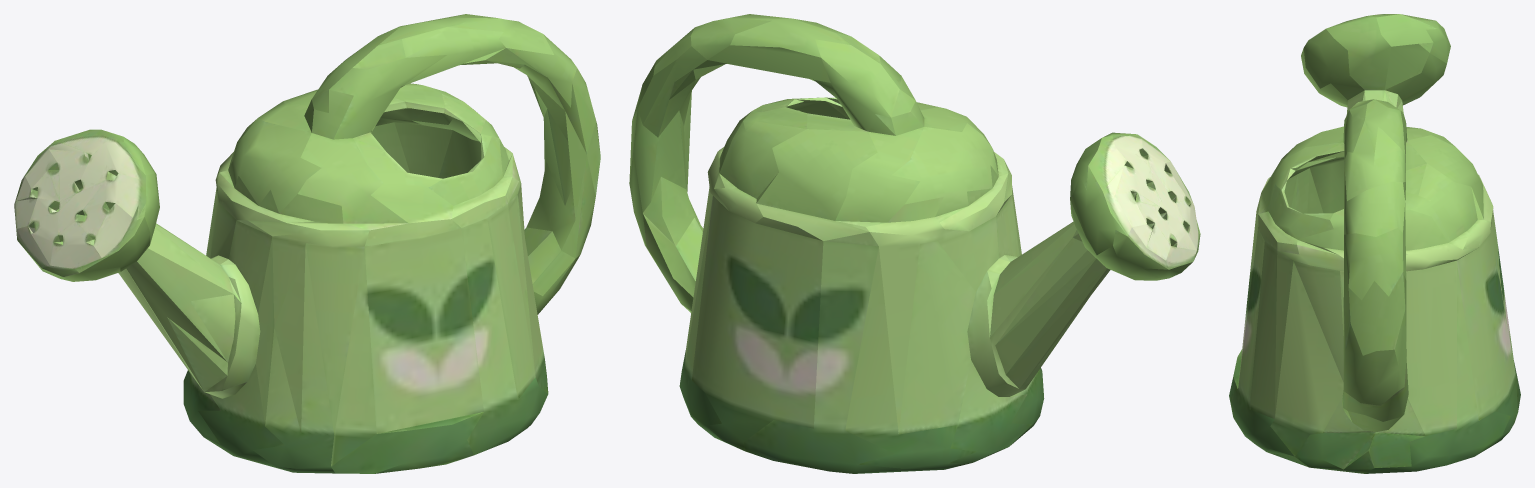
Rendered from farm-watering-can.glb.
3 views of the same model, side by side, from view 1: azimuth 30°, elevation 25°; view 2: azimuth 150°, elevation 25°; view 3: azimuth 270°, elevation 25° (orthographic). The views are drawn at different scales.
Visible parts, largest first — view 1: farm-watering-can-fit; view 2: farm-watering-can-fit; view 3: farm-watering-can-fit.
Boxes of the visible parts, bbox=[...] form: farm-watering-can-fit: bbox=[14, 14, 600, 473]; farm-watering-can-fit: bbox=[629, 14, 1200, 473]; farm-watering-can-fit: bbox=[1229, 14, 1520, 473].
Size of the model in its own units: 0.6348 by 0.4 by 0.3298.
Materials: 1 (1 with a texture image).
